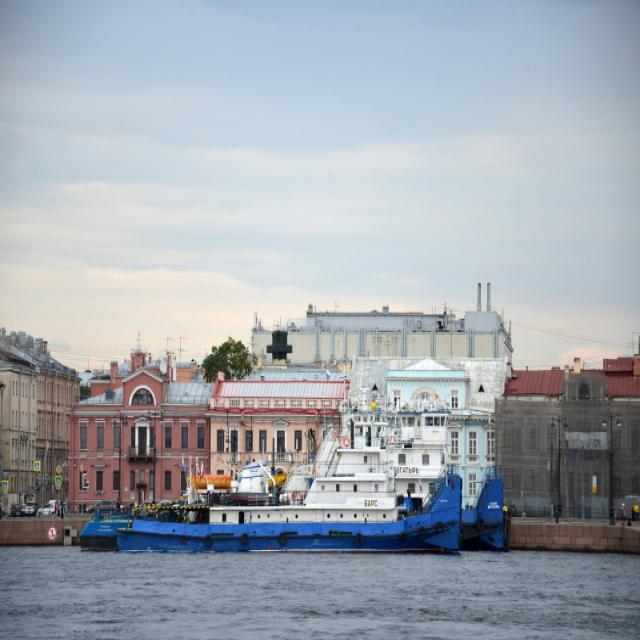tugboat: (115, 375, 467, 563)
